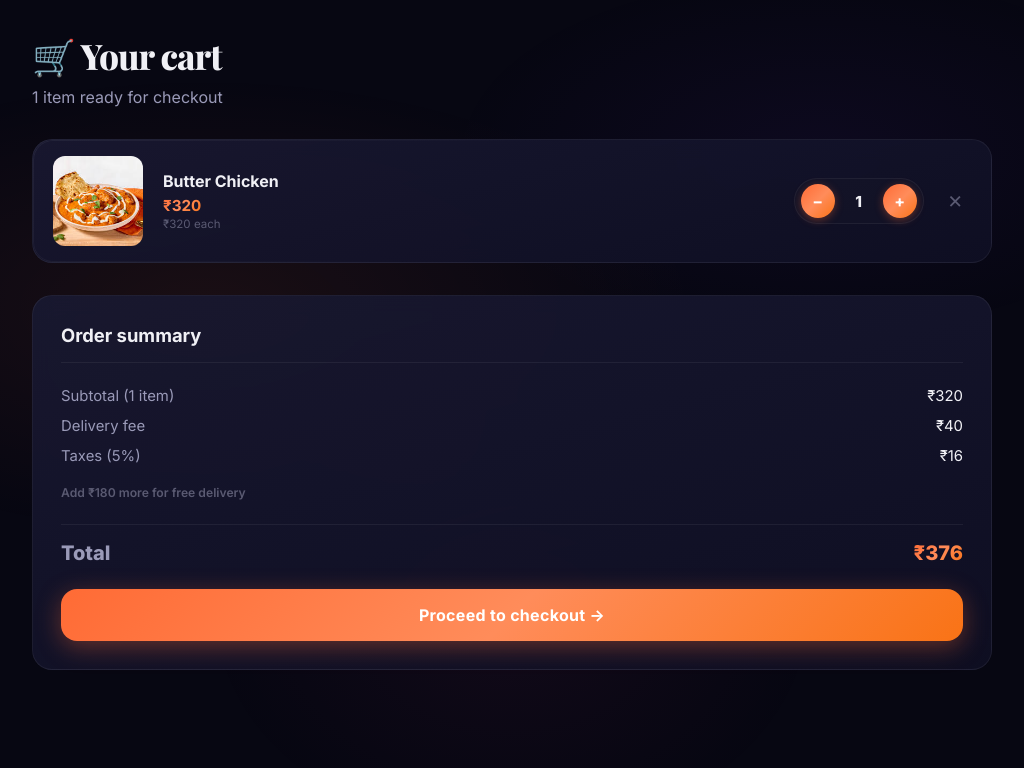
Test: CartPage › empties the cart when the last line is removed
The width and height of the screenshot is (1024, 768).
Step 1. Click the button named "remove butter chicken" → (955,201), box [940,182,971,220]
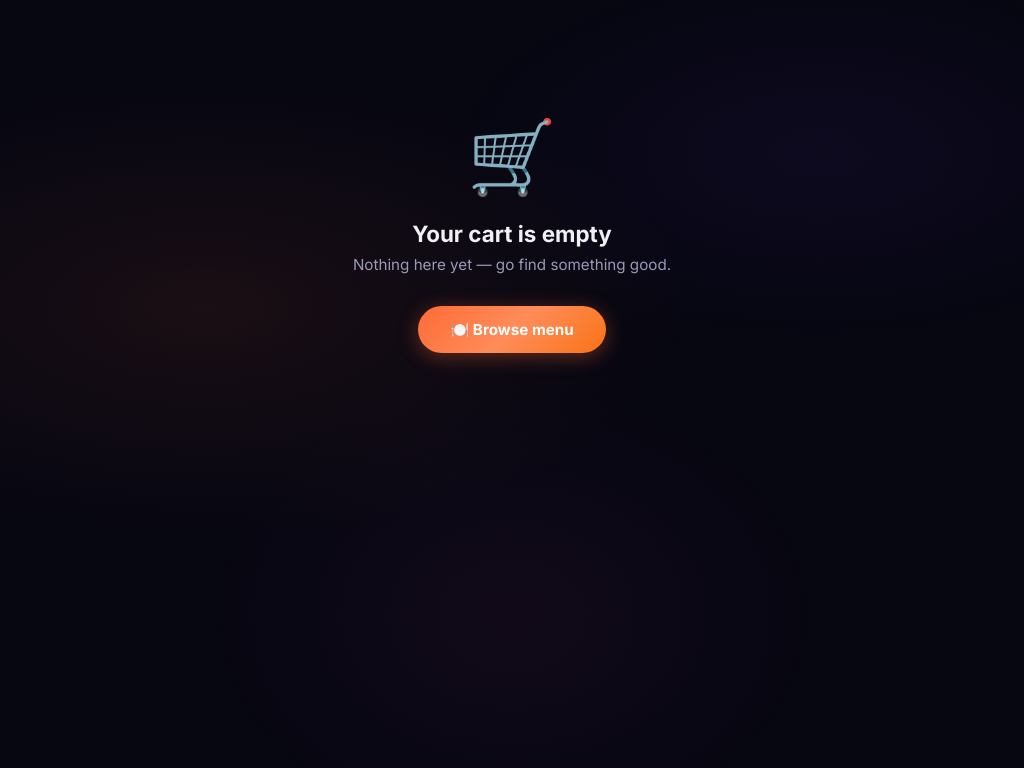
Result: the heading "Your cart is empty" is shown at [412,220,612,247]
